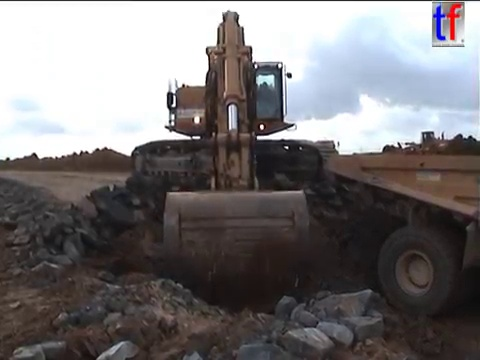excavator: (127, 7, 342, 300)
truck: (325, 145, 480, 320)
wheel loader: (380, 129, 456, 161)
